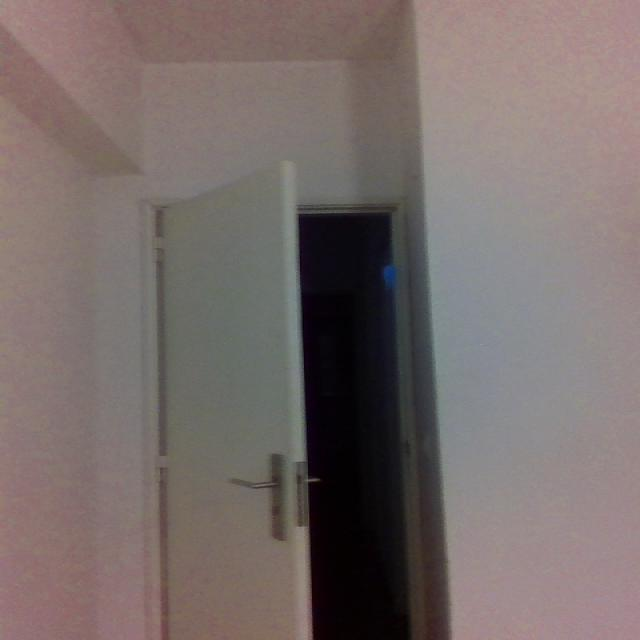door: (126, 163, 336, 640)
